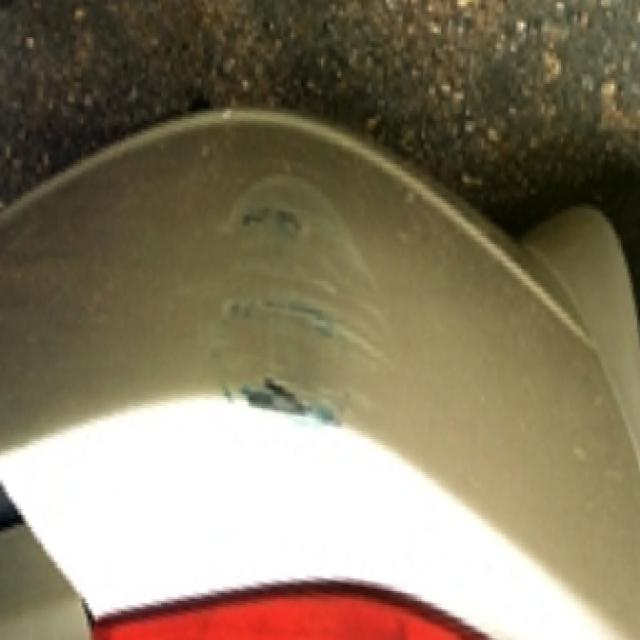scratch: (201, 163, 408, 427)
